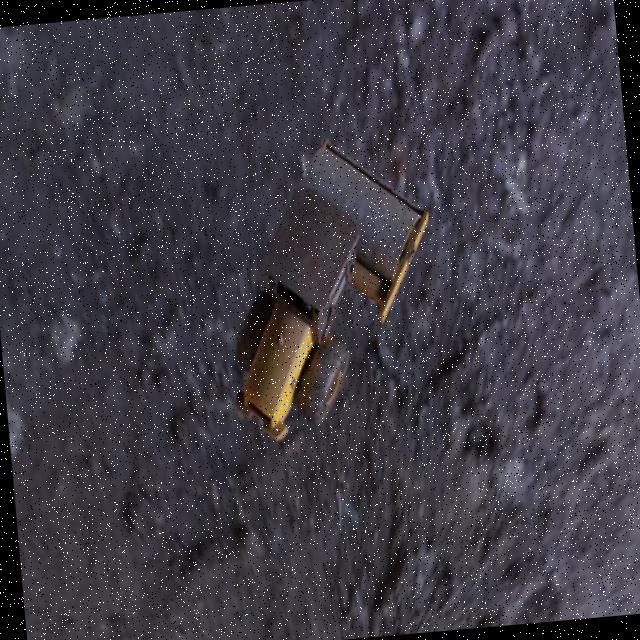Roller: (213, 128, 447, 444)
